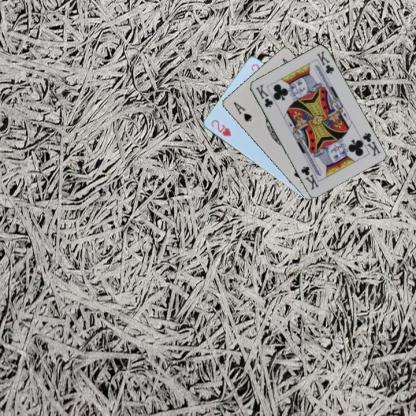2h: (208, 116, 232, 138)
As: (231, 99, 254, 123)
Kc: (360, 130, 382, 158), (253, 82, 274, 108)
